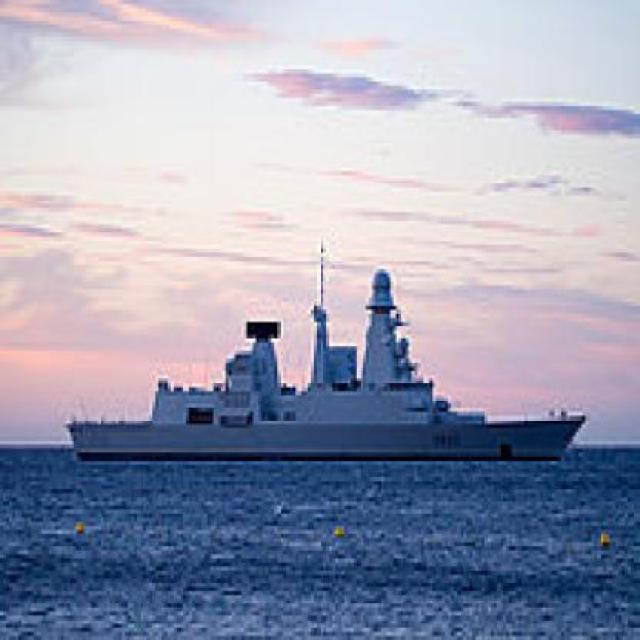warship2: (46, 197, 599, 470)
